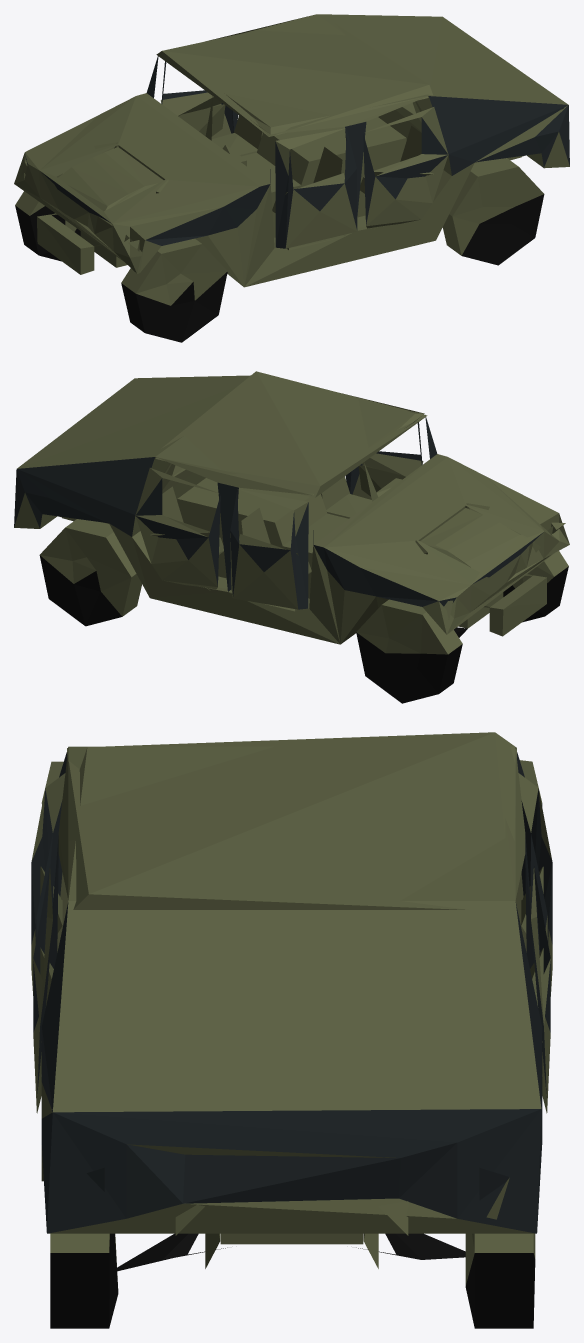
Rendered from humvee.paint-v1.lod1.glb.
3 views of the same model, one above another, from view 1: azimuth 30°, elevation 25°; view 2: azimuth 150°, elevation 25°; view 3: azimuth 270°, elevation 25° (orthographic). The views are drawn at different scales.
Visible parts, largest first — view 1: humvee.001_Material_0; view 2: humvee.001_Material_0; view 3: humvee.001_Material_0.
Part boxes in pixels (x1,y1,x2,y2): humvee.001_Material_0: [14, 14, 569, 342]; humvee.001_Material_0: [14, 371, 569, 703]; humvee.001_Material_0: [31, 732, 552, 1328].
Bounding box in the file's own units: 4.85 × 1.92 × 2.41.
